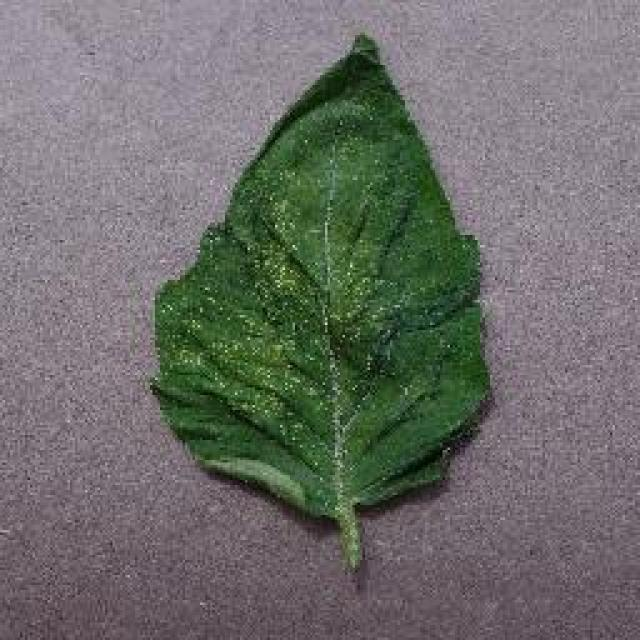Tomato___Spider_mites Two-spotted_spider_mite: (152, 35, 488, 565)
